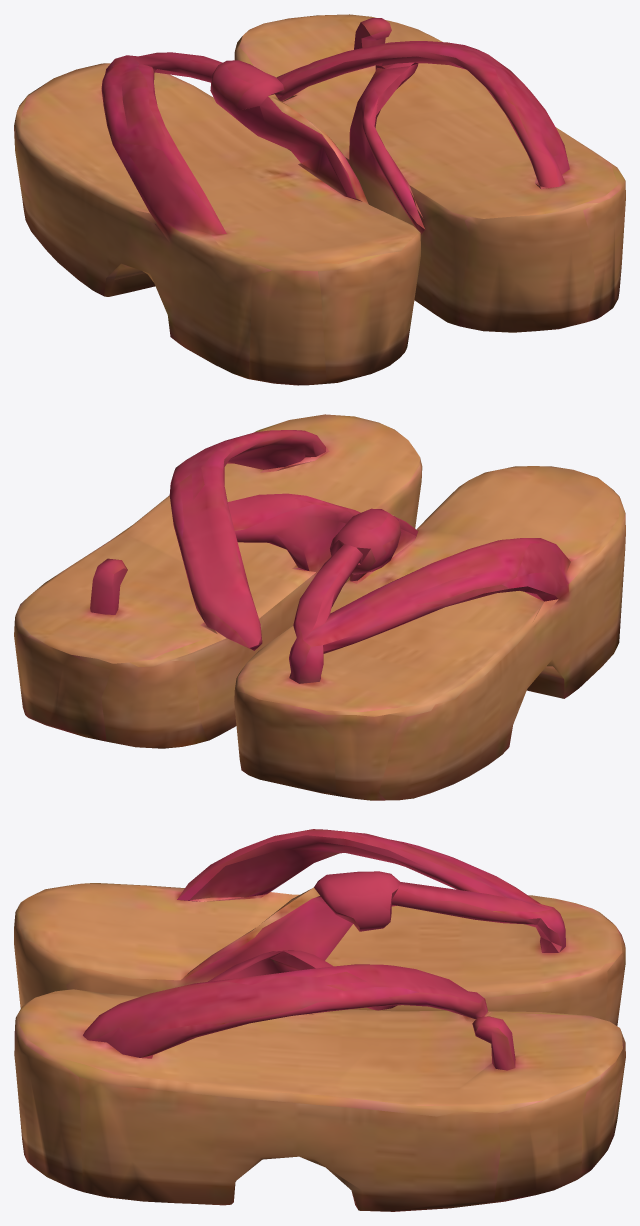
File: geta.glb
3 renders of one model, top to bottom at view 1: azimuth 30°, elevation 25°; view 2: azimuth 150°, elevation 25°; view 3: azimuth 270°, elevation 25°, orthographic. The views are drawn at different scales.
Parts seen in each view (by area): view 1: geta; view 2: geta; view 3: geta.
Boxes of the visible parts, bbox=[...] form: geta: bbox=[14, 14, 625, 385]; geta: bbox=[14, 414, 625, 800]; geta: bbox=[14, 829, 625, 1211].
Bounding box in the file's own units: 0.2067 × 0.09 × 0.2454.
Materials: 1 (1 with a texture image).
